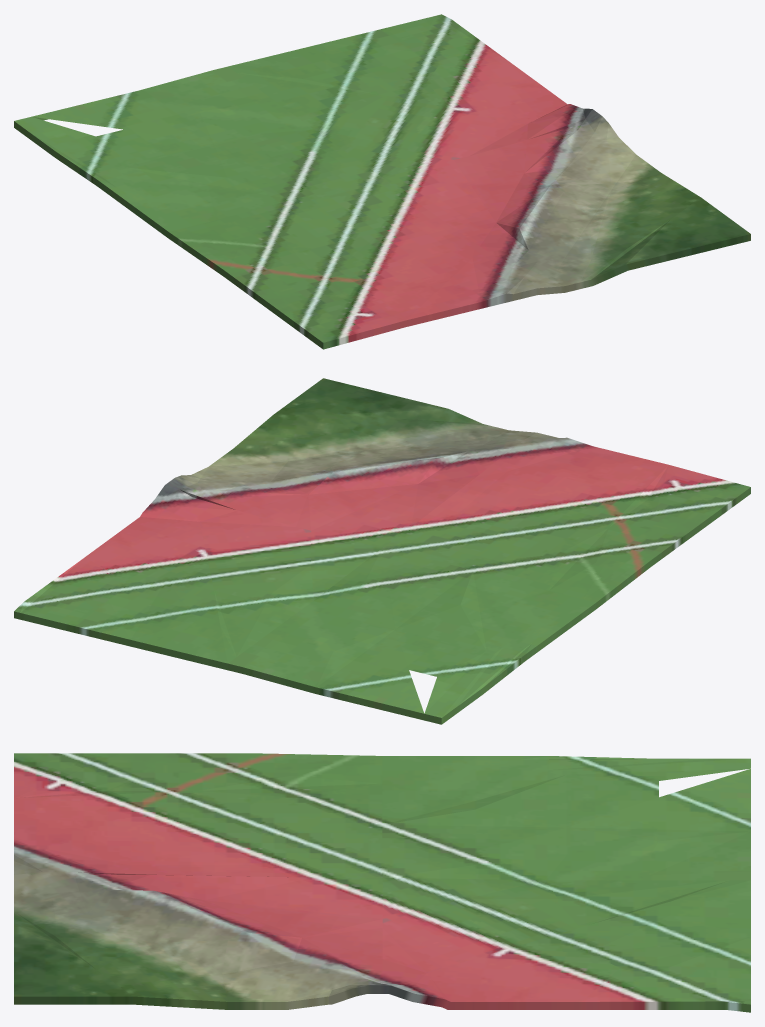
The model's file is BuildingMesh-00247.gltf.
3 views of the same model, one above another, from view 1: azimuth 30°, elevation 25°; view 2: azimuth 150°, elevation 25°; view 3: azimuth 270°, elevation 25° (orthographic). The views are drawn at different scales.
Visible parts, largest first — view 1: BuildingMesh-00247; view 2: BuildingMesh-00247; view 3: BuildingMesh-00247.
Boxes of the visible parts, left/top/right/bottom form: BuildingMesh-00247: left=14, top=14, right=750, bottom=349; BuildingMesh-00247: left=14, top=378, right=750, bottom=724; BuildingMesh-00247: left=14, top=753, right=750, bottom=1012.
Size of the model in its own units: 0.7804 by 0.0431 by 0.9726.
1 material, 1 textured.
